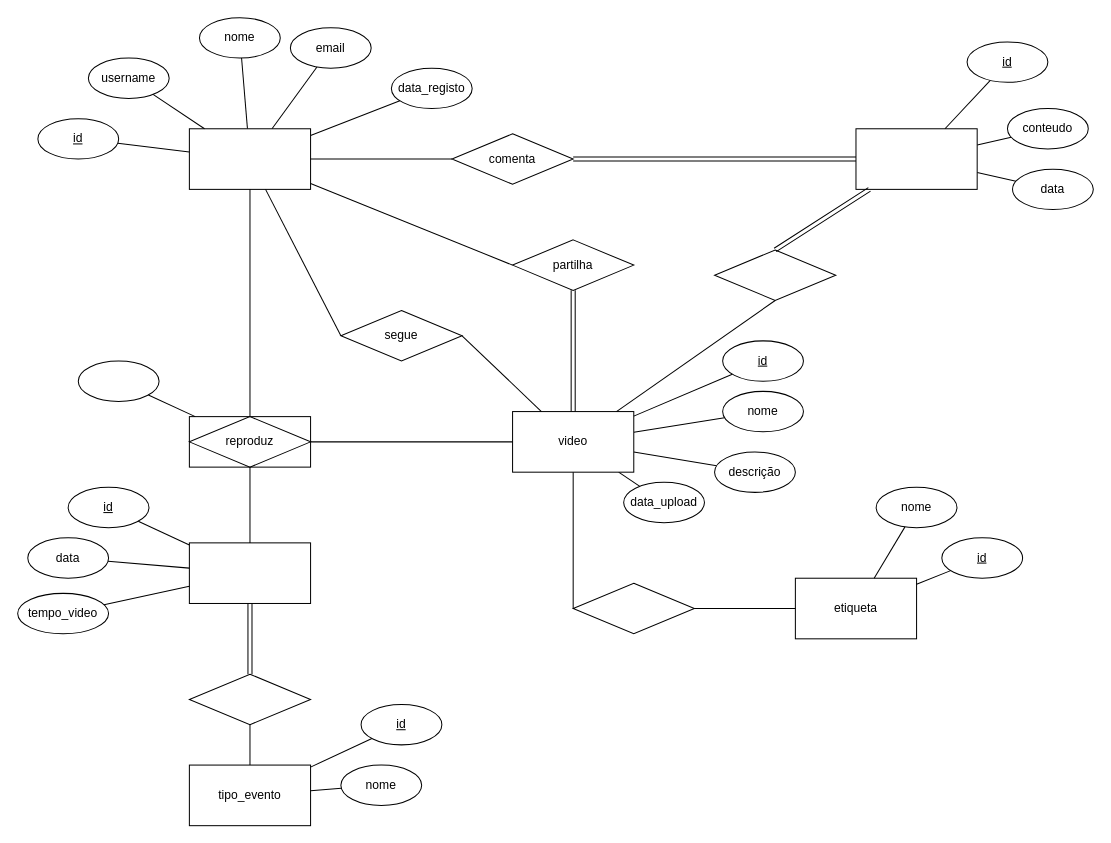
Some shapes in this 1111 by 843 pixel diagram are drawn without their labels. The shapes that lost their labels are listed below. From the top down, each one's centre as x and y in pixels, then its label:
point 249,158: utilizador
point 916,158: comentário
point 775,274: sobre
point 118,380: rating
point 249,572: evento
point 633,608: tag
point 249,699: tipo
